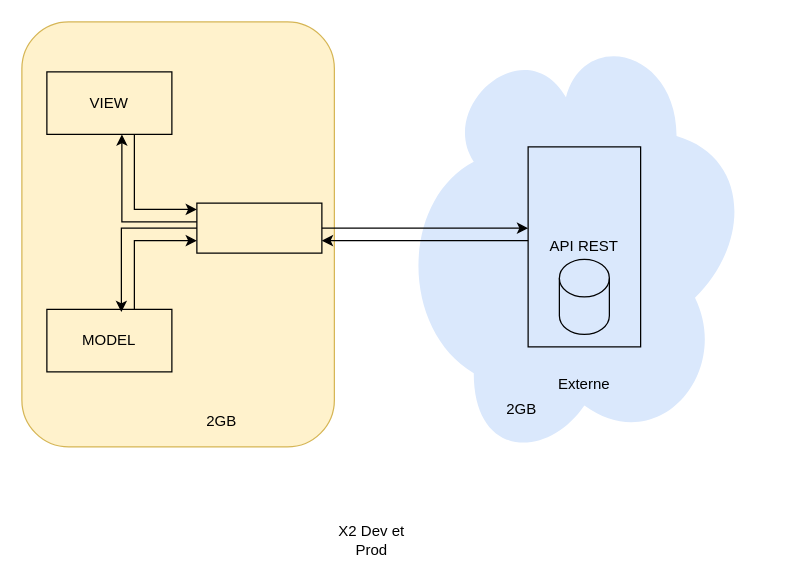
The diagram is 790 pixels wide and 581 high, and some of its shapes have lost their labels. The shapes that lost their labels are listed below. From the top down, each one's centre as x and y in pixels, then its label:
(x=259, y=227): CONTROLLER
(x=583, y=296): BD
